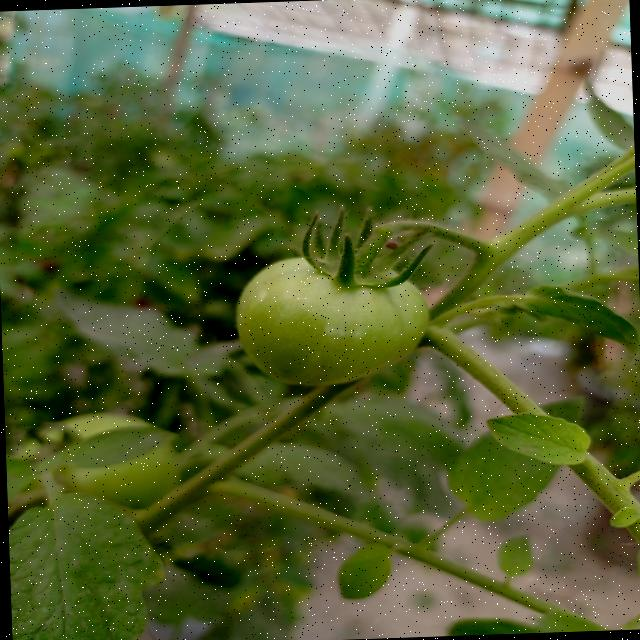Unripe: (233, 248, 437, 390)
